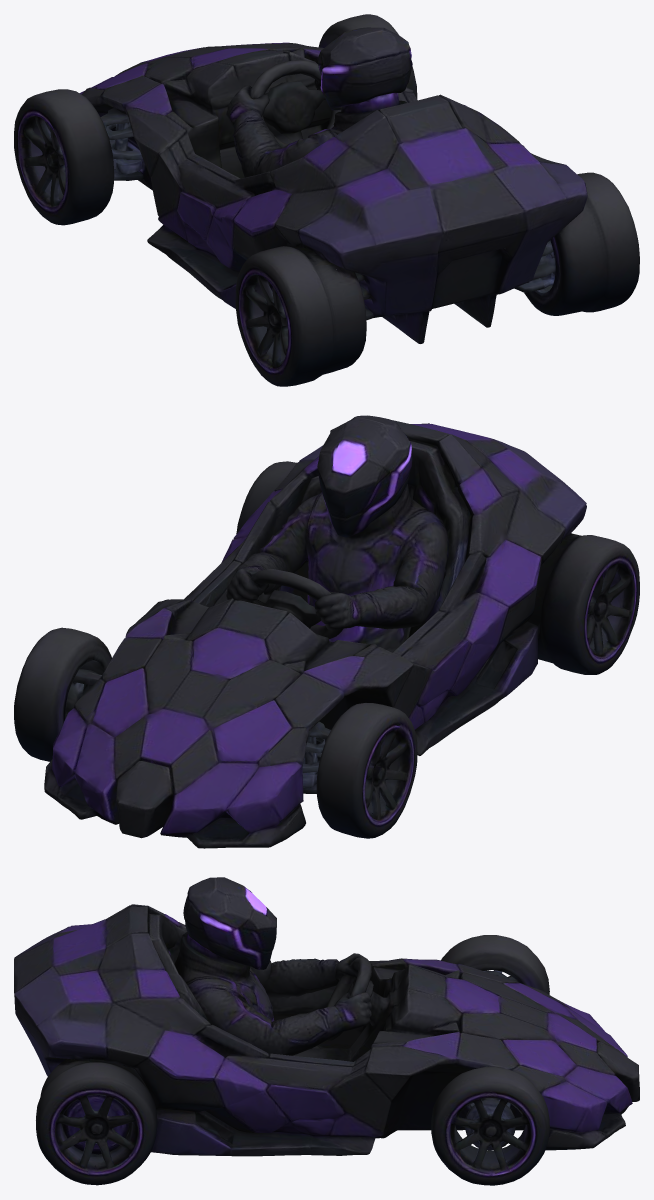
Rendered from ledger-dark.glb.
3 renders of one model, top to bottom at view 1: azimuth 30°, elevation 25°; view 2: azimuth 150°, elevation 25°; view 3: azimuth 270°, elevation 25°, orthographic. The views are drawn at different scales.
Visible parts, largest first — view 1: chassis, wheel-rl, wheel-fl, wheel-rr, wheel-fr; view 2: chassis, wheel-rl, wheel-fl, wheel-fr, wheel-rr; view 3: chassis, wheel-rr, wheel-fr, wheel-fl.
Part boxes in pixels (bbox=[...]): chassis: bbox=[79, 27, 597, 371]; wheel-rl: bbox=[235, 242, 360, 386]; wheel-fl: bbox=[14, 89, 114, 225]; wheel-rr: bbox=[572, 172, 639, 312]; wheel-fr: bbox=[318, 14, 417, 98]; chassis: bbox=[44, 415, 586, 848]; wheel-rl: bbox=[528, 533, 639, 674]; wheel-fl: bbox=[316, 703, 417, 838]; wheel-fr: bbox=[14, 627, 111, 761]; wheel-rr: bbox=[236, 461, 296, 533]; chassis: bbox=[14, 877, 639, 1156]; wheel-rr: bbox=[36, 1057, 160, 1185]; wheel-fr: bbox=[431, 1066, 549, 1185]; wheel-fl: bbox=[441, 935, 549, 994].
Bounding box in the file's own units: 2.55 × 1.84 × 4.5.
1 material, 1 textured.
